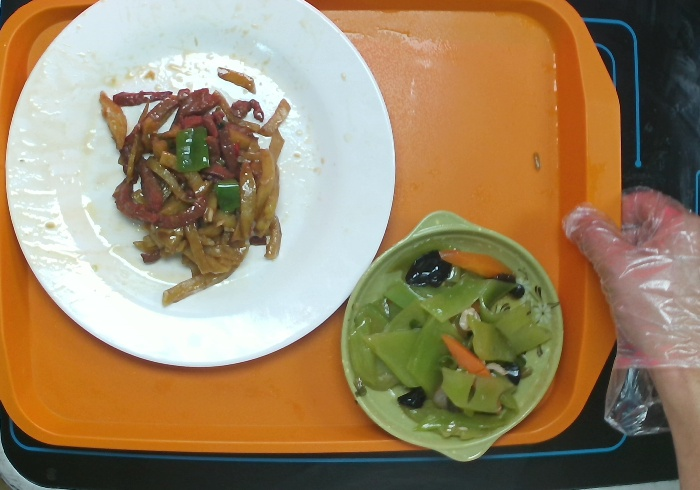NLDX-Da_Yuan_Pan: (1, 1, 400, 375)
NLDX-Lv_Hua_Shuang_Er_Die: (338, 208, 565, 463)
